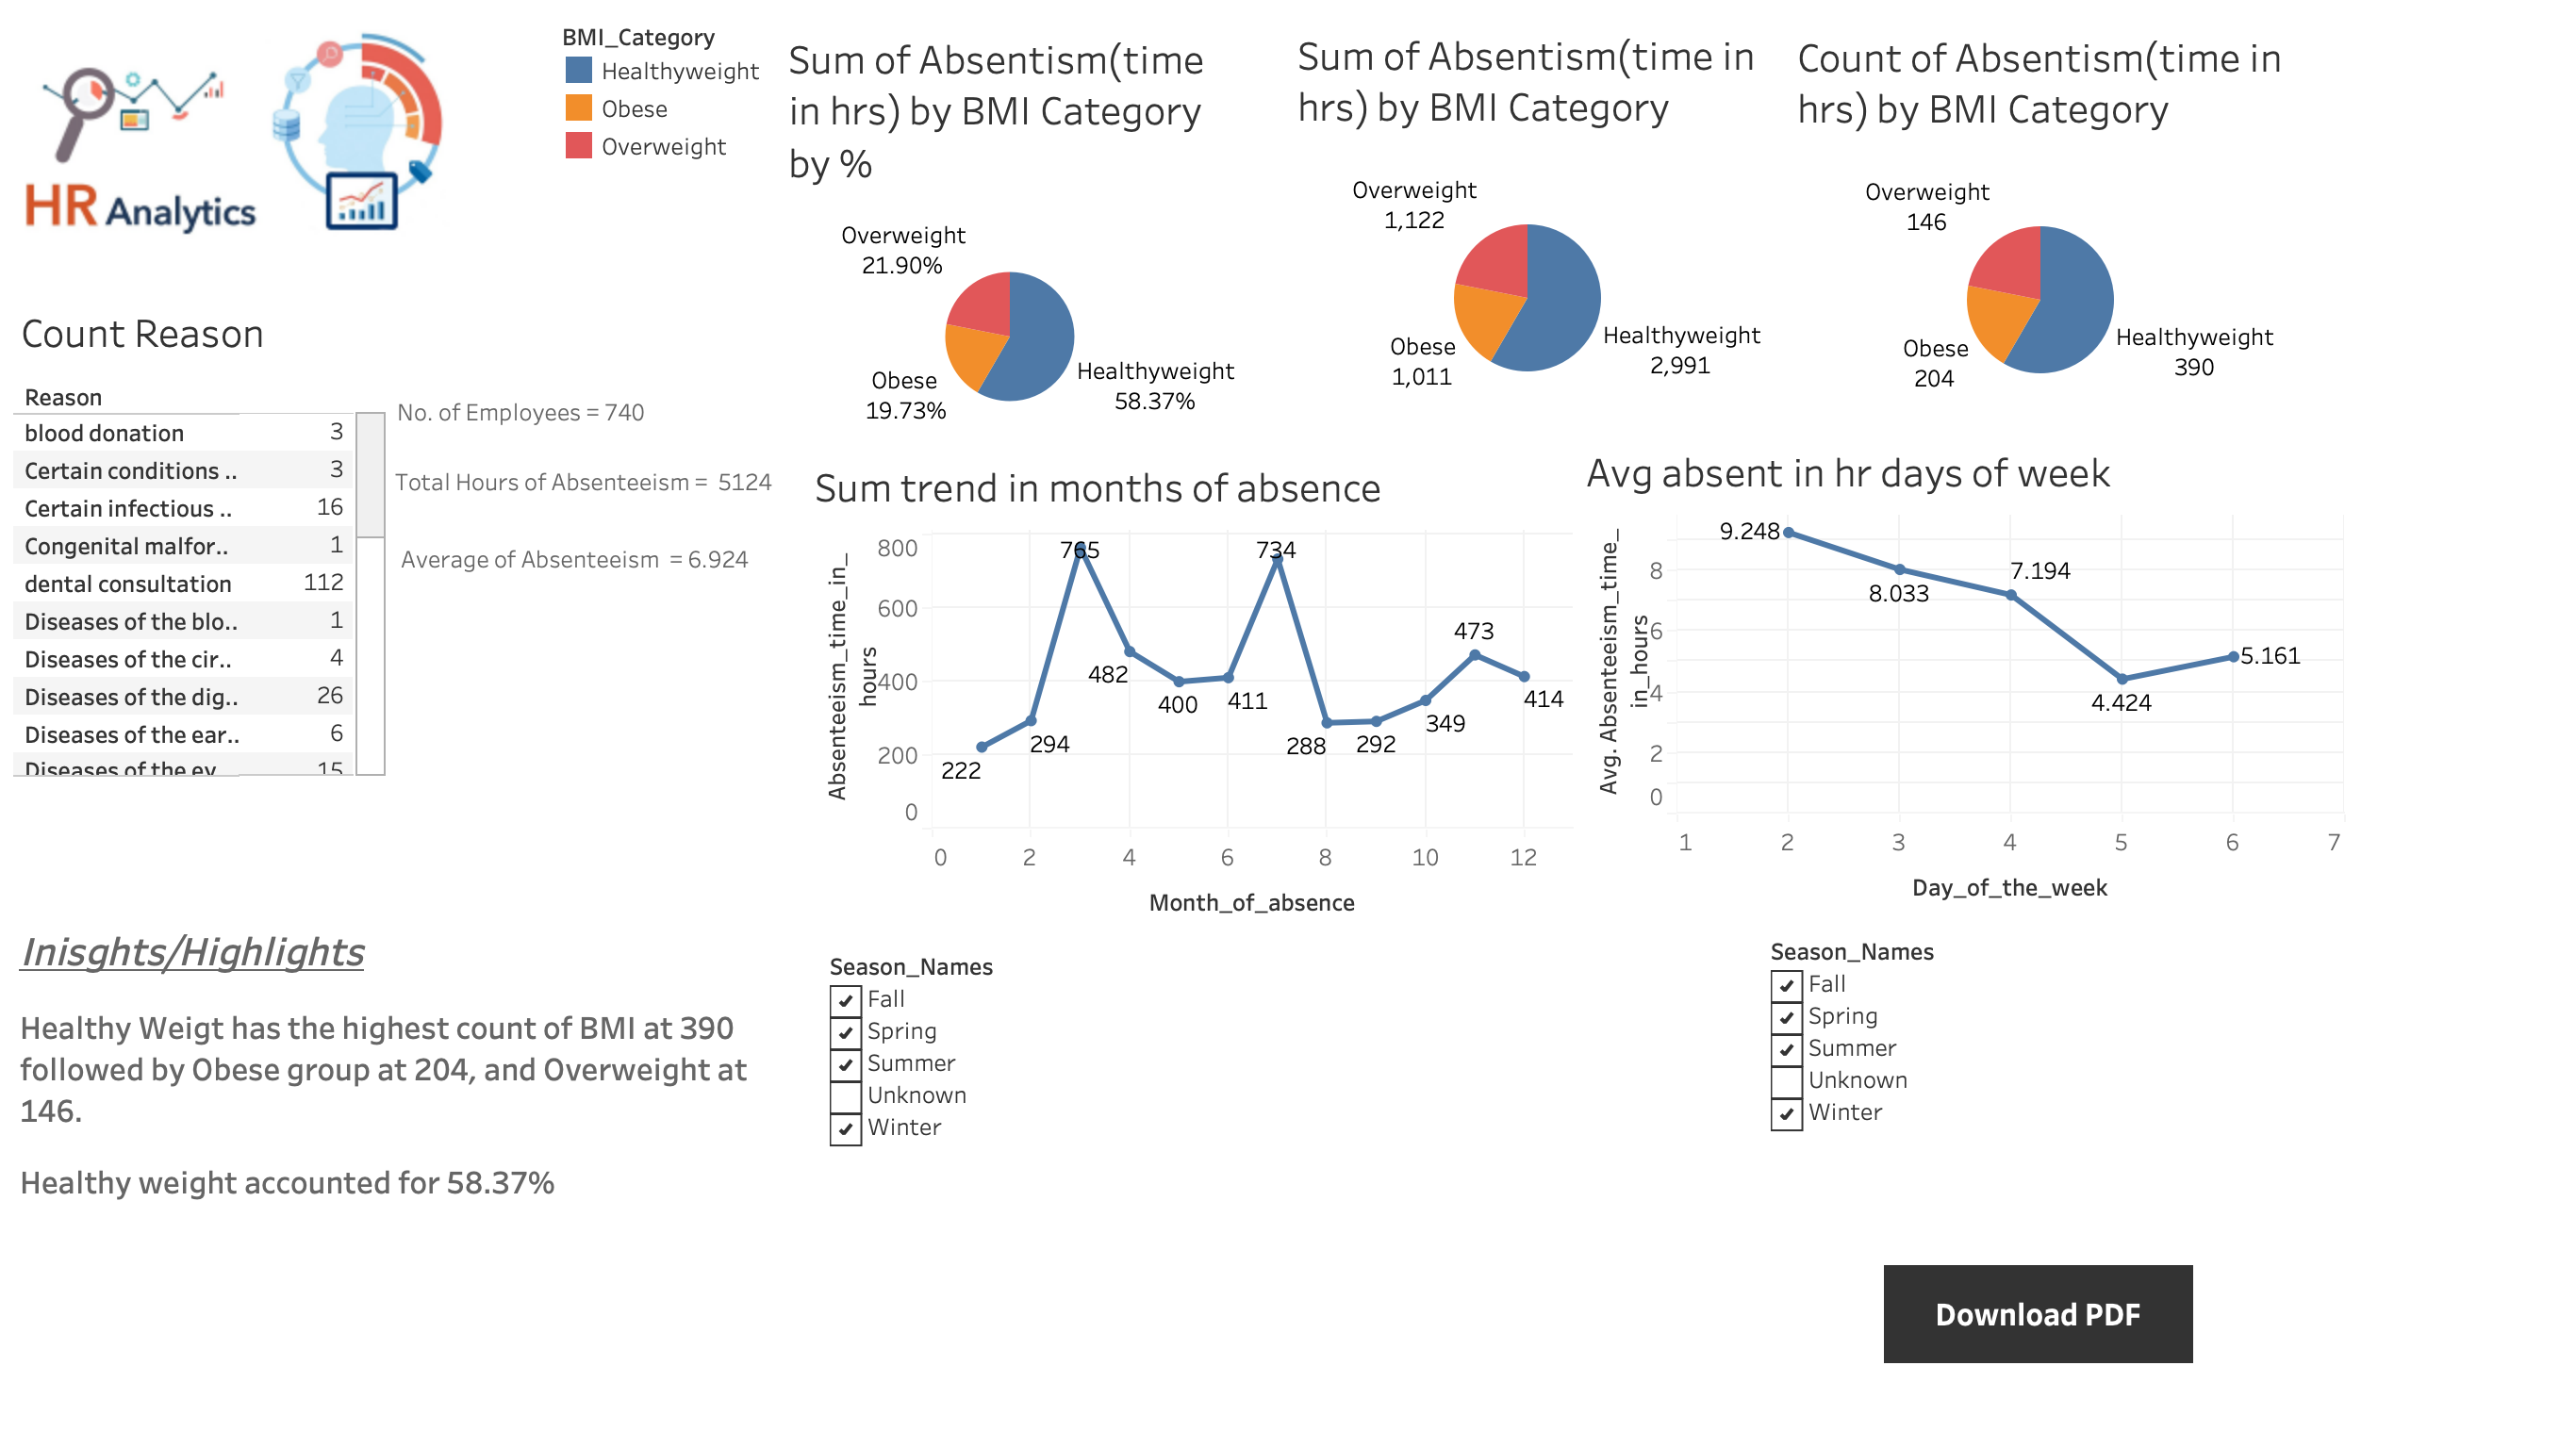

Layout of this report page (visuals, bound fields, positions):
{"tool":"tableau","page":{"name":"Dashboard 1","canvas":[1366,768],"ordinal":0},"visuals":[{"type":"legend","title":"Sum of Absent BMI Category","param":"[federated.1rnkia91bp22kn1ey017s1cior64].[none:BMI_Category:nk]","box":[297,9,119,85]},{"type":"worksheet","title":"Sum of Absent BMI Category","mark":"Pie","box":[684,9,252,227]},{"type":"image","param":"Image/HR-Analytics.jpg","box":[4,10,268,126]},{"type":"worksheet","title":"Count of Absent BMI Category","mark":"Pie","box":[949,10,266,227]},{"type":"worksheet","title":"Sum of Absent BMI Category (by %)","mark":"Pie","box":[414,11,243,236]},{"type":"worksheet","title":"Count Reason","mark":"Automatic","rows":["Reason"],"box":[7,156,199,256]},{"type":"text","box":[208,203,137,30]},{"type":"worksheet","title":"Avg absent in hr days of week","mark":"Automatic","rows":["Absenteeism_time_in_hours"],"cols":["Day_of_the_week"],"box":[837,230,406,256]},{"type":"worksheet","title":"Sum trend in months of absence","mark":"Line","rows":["Absenteeism_time_in_hours"],"cols":["Month_of_absence"],"box":[428,238,406,256]},{"type":"text","box":[207,240,230,30]},{"type":"text","box":[210,281,227,30]},{"type":"text","box":[8,473,403,184]},{"type":"filter","title":"Avg absent in hr days of week","param":"[federated.1rnkia91bp22kn1ey017s1cior64].[none:Season_Names:nk]","box":[939,495,160,138]},{"type":"filter","title":"Sum trend in months of absence","param":"[federated.1rnkia91bp22kn1ey017s1cior64].[none:Season_Names:nk]","box":[440,503,160,138]},{"type":"dashboard-object","box":[999,671,164,52]}]}

Visuals, with their boxes in screenshot pixels (x1, y1, x2, y2), scaled from the page's 1366x768 canvas onto the 2576x1448 screenshot:
"Sum of Absent BMI Category" legend: {"left": 560, "top": 17, "right": 784, "bottom": 177}
"Sum of Absent BMI Category" worksheet (Pie marks): {"left": 1290, "top": 17, "right": 1765, "bottom": 445}
image: {"left": 8, "top": 19, "right": 513, "bottom": 256}
"Count of Absent BMI Category" worksheet (Pie marks): {"left": 1790, "top": 19, "right": 2291, "bottom": 447}
"Sum of Absent BMI Category (by %)" worksheet (Pie marks): {"left": 781, "top": 21, "right": 1239, "bottom": 466}
"Count Reason" worksheet: {"left": 13, "top": 294, "right": 388, "bottom": 777}
text: {"left": 392, "top": 383, "right": 651, "bottom": 439}
"Avg absent in hr days of week" worksheet: {"left": 1578, "top": 434, "right": 2344, "bottom": 916}
"Sum trend in months of absence" worksheet (Line marks): {"left": 807, "top": 449, "right": 1573, "bottom": 931}
text: {"left": 390, "top": 452, "right": 824, "bottom": 509}
text: {"left": 396, "top": 530, "right": 824, "bottom": 586}
text: {"left": 15, "top": 892, "right": 775, "bottom": 1239}
"Avg absent in hr days of week" filter: {"left": 1771, "top": 933, "right": 2072, "bottom": 1193}
"Sum trend in months of absence" filter: {"left": 830, "top": 948, "right": 1131, "bottom": 1209}
dashboard-object: {"left": 1884, "top": 1265, "right": 2193, "bottom": 1363}
